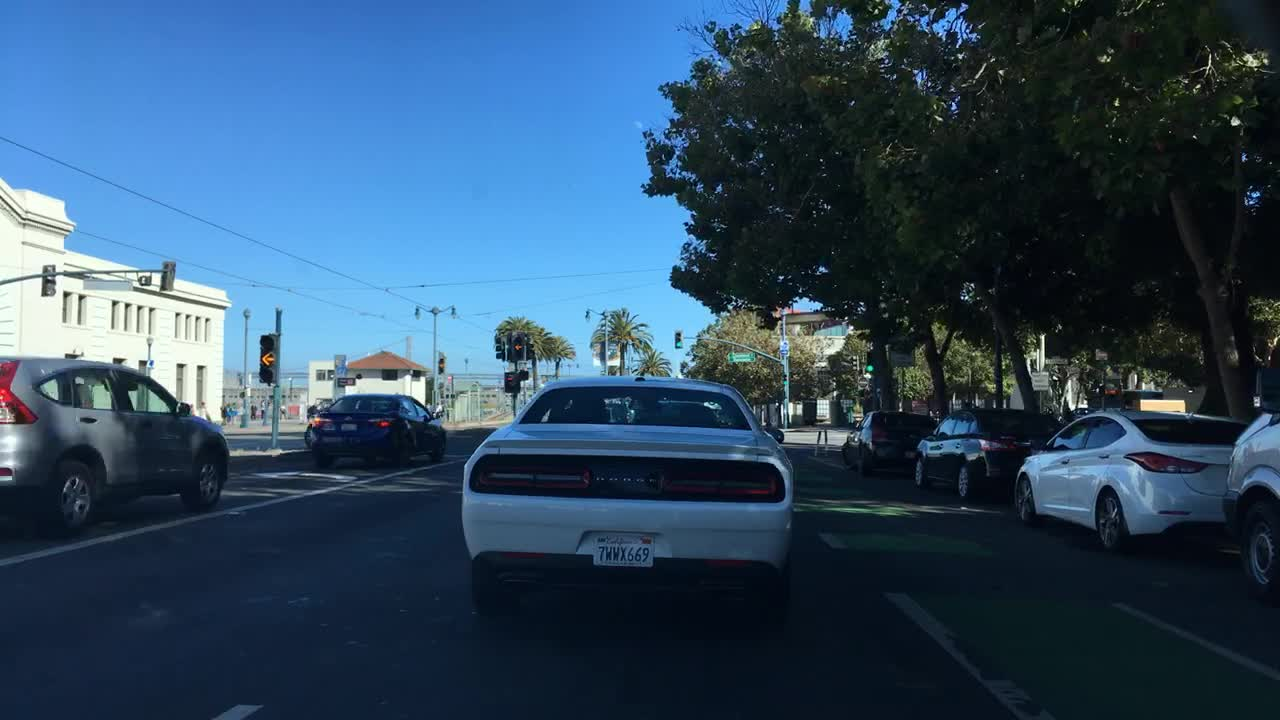car: (456, 374, 806, 605), (1, 351, 234, 539), (1008, 409, 1250, 546), (909, 406, 1065, 500), (1225, 349, 1279, 598), (296, 390, 447, 465), (840, 406, 938, 476)
traffic light: (255, 335, 277, 389), (159, 260, 174, 291), (491, 333, 504, 361), (41, 264, 52, 296), (509, 336, 521, 360), (526, 335, 536, 363), (671, 331, 683, 350), (865, 355, 875, 376), (502, 371, 512, 391), (848, 356, 859, 374), (779, 375, 789, 388)
traffic sign: (726, 350, 756, 361), (778, 339, 789, 358)
